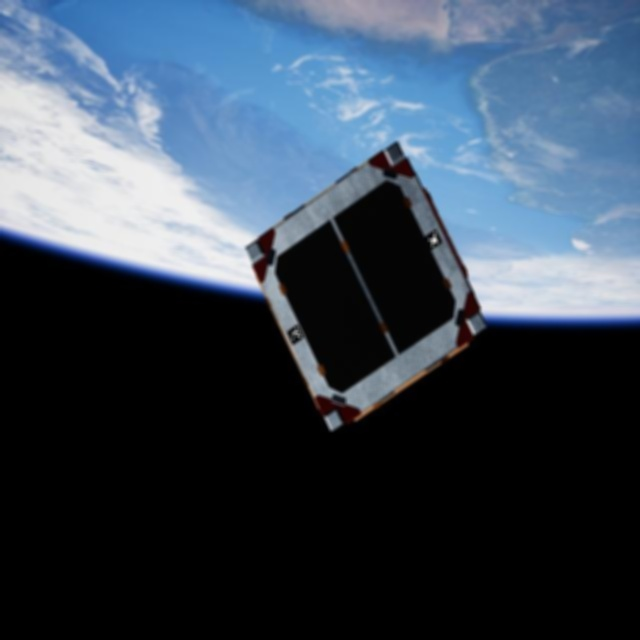satellite: (296, 135, 492, 451)
